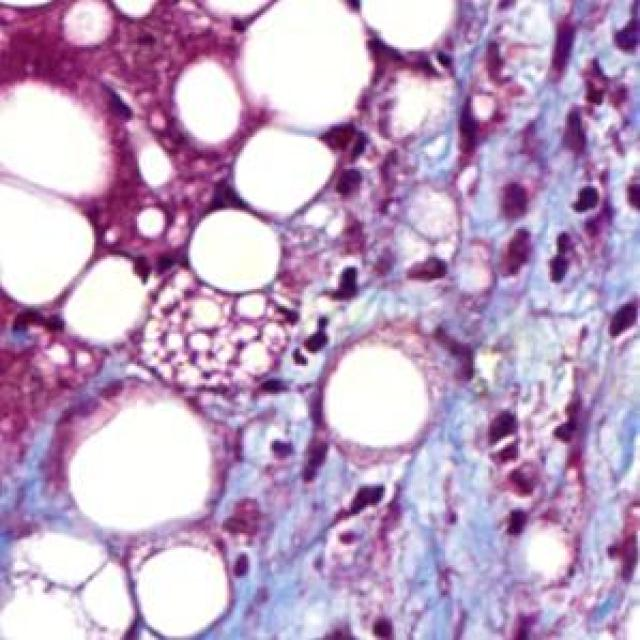steatosis: (182, 208, 291, 300)
